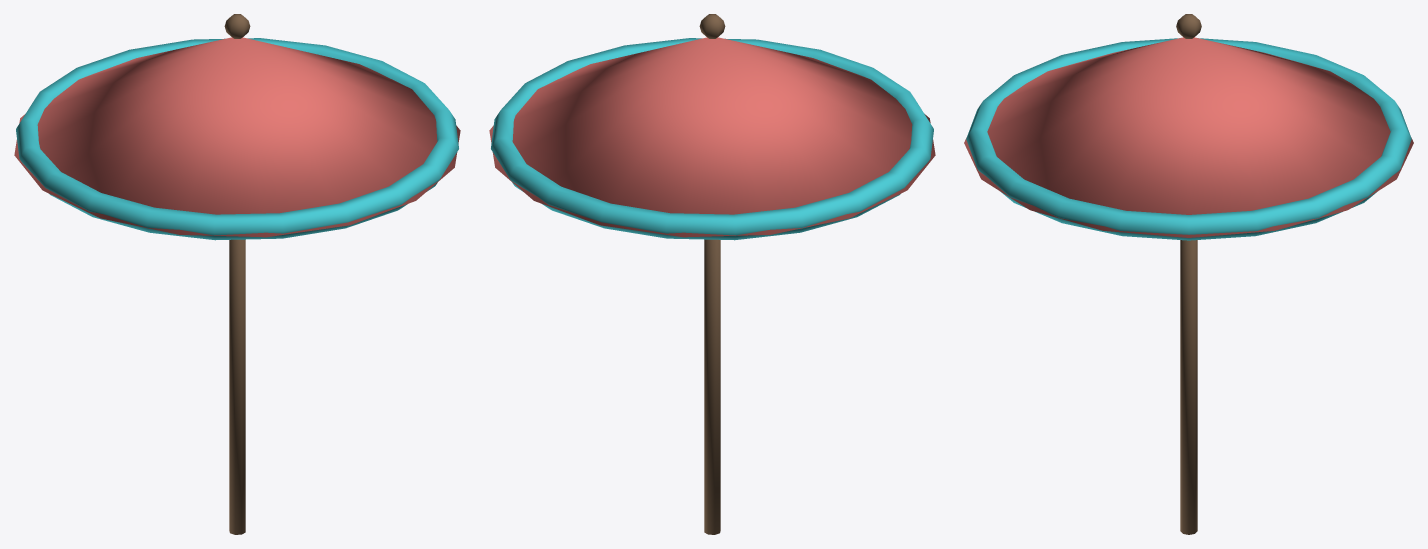
File: xy_town_parasol.glb
3 renders of one model, left to right at view 1: azimuth 30°, elevation 25°; view 2: azimuth 150°, elevation 25°; view 3: azimuth 270°, elevation 25°, orthographic.
Parts seen in each view (by area): view 1: xy_town_parasol; view 2: xy_town_parasol; view 3: xy_town_parasol.
Part boxes in pixels (x1,y1,x2,y2): xy_town_parasol: (14,14,460,534); xy_town_parasol: (489,14,935,534); xy_town_parasol: (964,14,1413,534).
Size of the model in its own units: 2.1 by 2.66 by 2.1.
